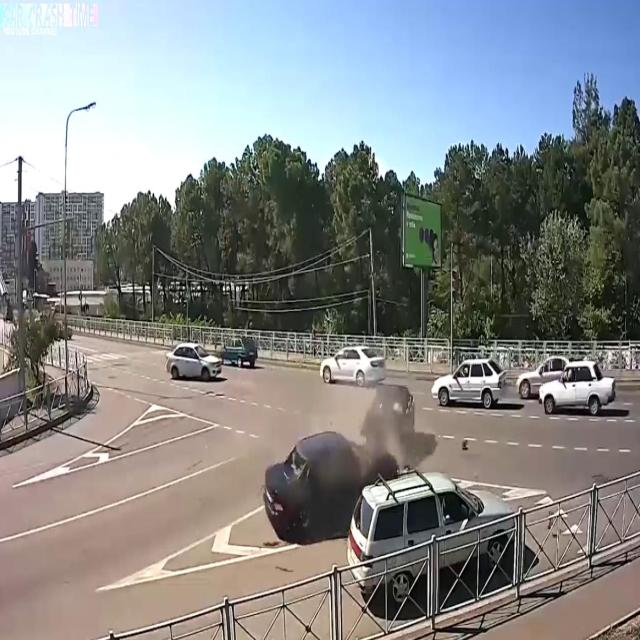accident: (260, 375, 420, 549)
non_accident: (429, 352, 623, 424), (162, 324, 262, 388)
